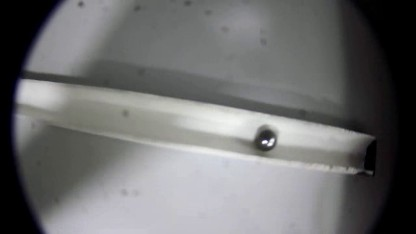gangzhu: (253, 128, 276, 152)
